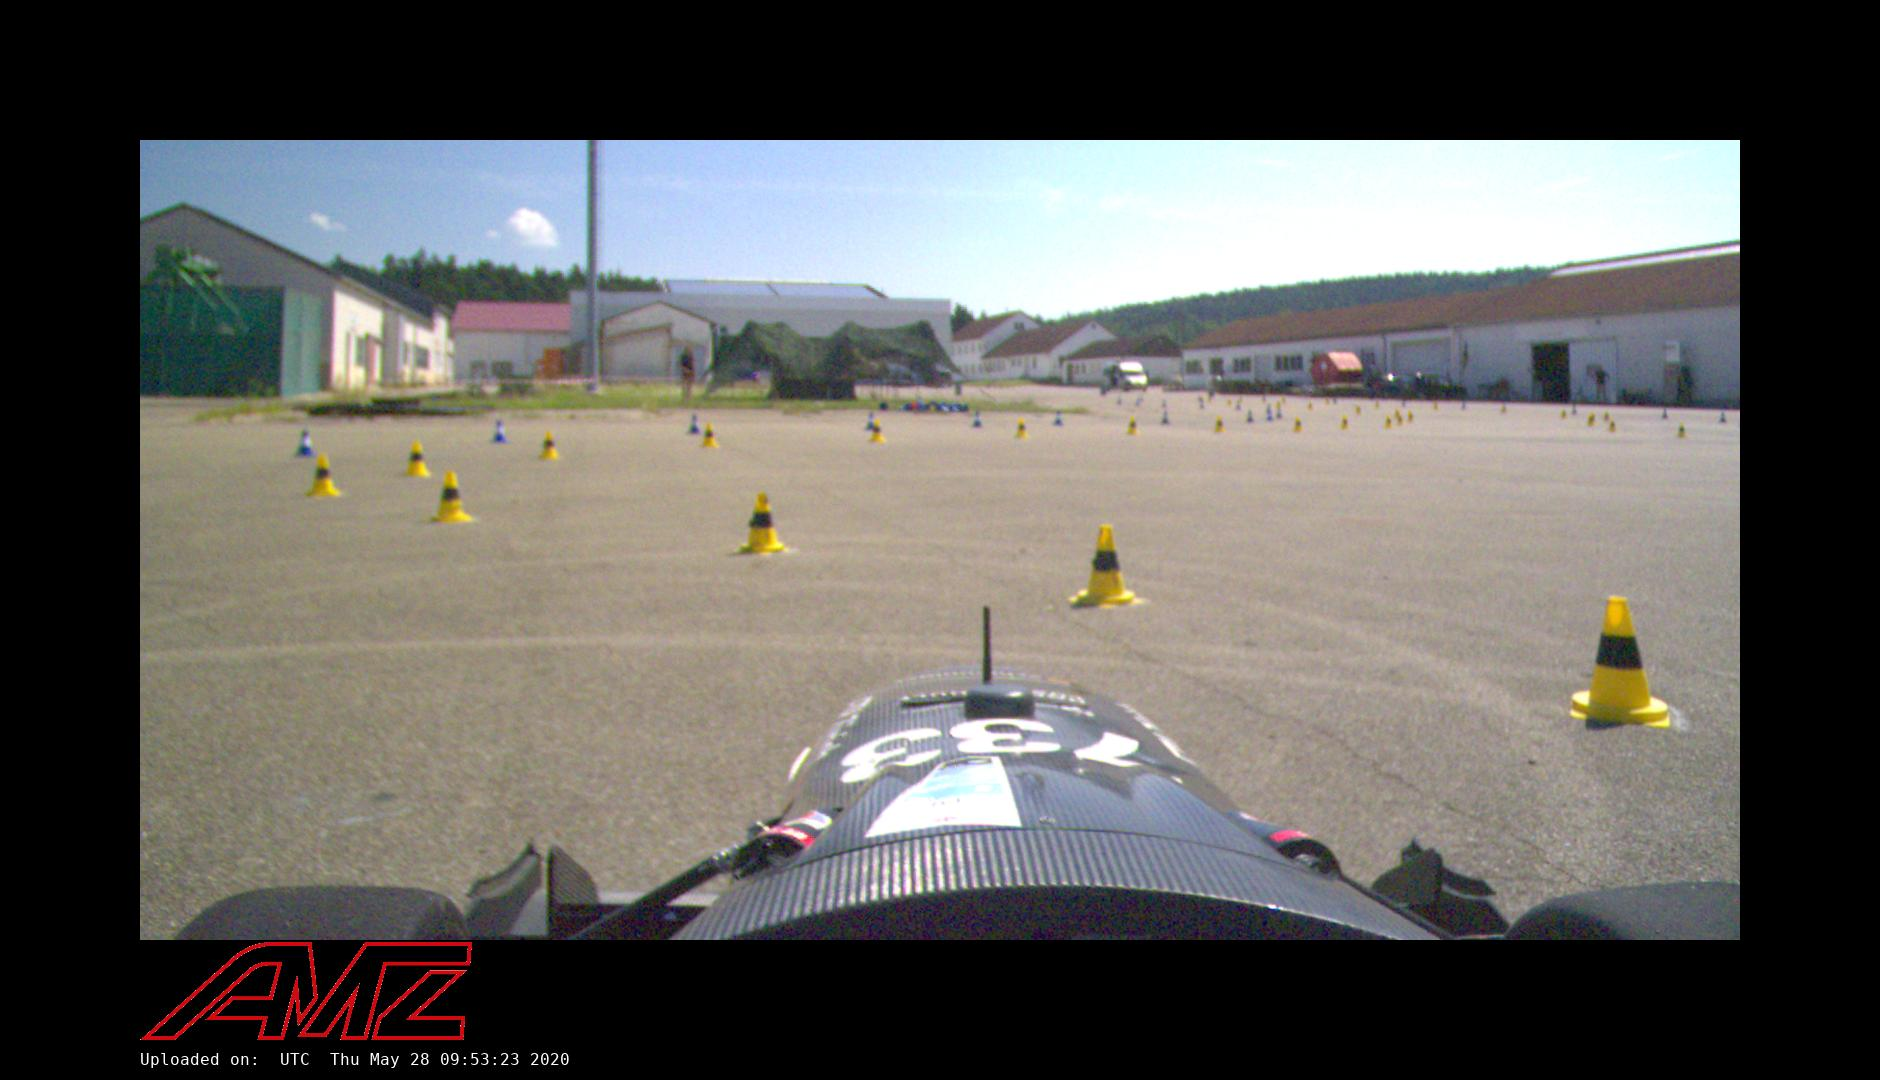blue_cone: (293, 426, 314, 459), (491, 420, 507, 443), (686, 413, 701, 434), (970, 410, 984, 430), (863, 411, 877, 431), (1054, 410, 1065, 425), (1160, 410, 1171, 425), (1245, 410, 1254, 422)
yellow_cone: (1571, 587, 1671, 730), (1069, 524, 1148, 608), (735, 492, 795, 556), (434, 470, 469, 521), (307, 459, 338, 493), (405, 437, 429, 475), (537, 430, 559, 459), (699, 422, 718, 448), (868, 419, 884, 442), (1014, 417, 1029, 439), (1126, 413, 1141, 434), (1673, 422, 1689, 439), (1212, 413, 1225, 433), (1292, 415, 1303, 431), (1340, 413, 1349, 430), (1384, 415, 1393, 429), (1608, 419, 1617, 431)
